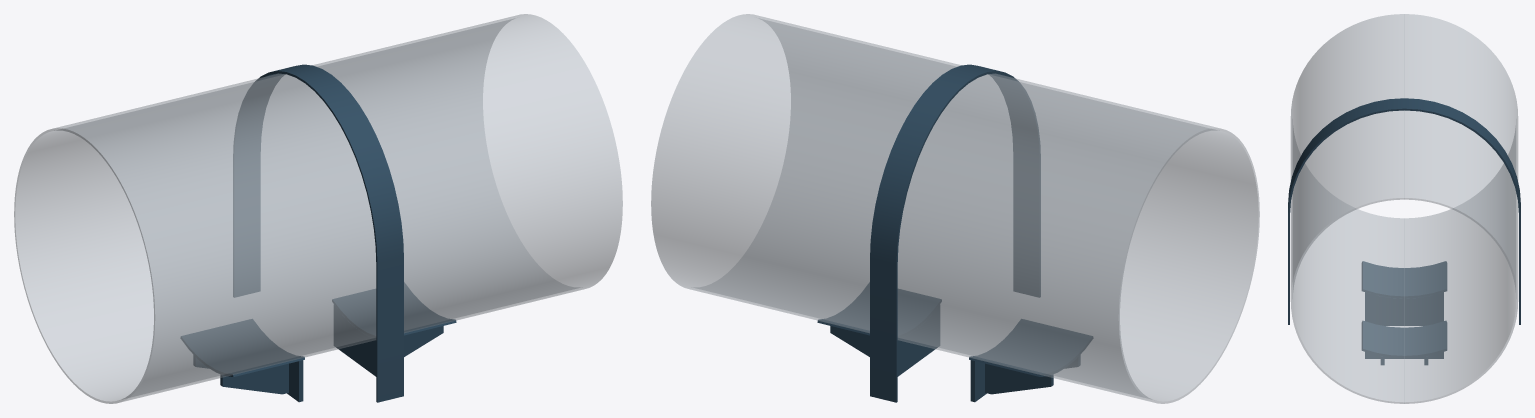
The model's file is TS-669.00.00-12-opora-dn920-ris1.glb.
3 views of the same model, side by side, from view 1: azimuth 30°, elevation 25°; view 2: azimuth 150°, elevation 25°; view 3: azimuth 270°, elevation 25° (orthographic). The views are drawn at different scales.
Visible parts, largest first — view 1: truba, homut_9, upor_8, upor_4, upor_1, upor_6, upor_2, upor_5; view 2: truba, homut_9, upor_8, upor_4, upor_1, upor_7, upor_3, upor_5; view 3: truba, homut_9, upor_8, upor_4, upor_5, upor_1.
Boxes of the visible parts, x1,y1,x2,y2 form: truba: (14, 14, 622, 403); homut_9: (233, 64, 403, 402); upor_8: (181, 319, 304, 376); upor_4: (332, 282, 456, 338); upor_1: (334, 305, 376, 376); upor_6: (220, 363, 288, 394); upor_2: (404, 326, 443, 356); upor_5: (287, 360, 303, 402); truba: (651, 14, 1259, 403); homut_9: (870, 64, 1040, 402); upor_8: (969, 319, 1092, 376); upor_4: (817, 282, 941, 338); upor_1: (897, 305, 939, 376); upor_7: (985, 363, 1053, 394); upor_3: (830, 326, 869, 356); upor_5: (970, 360, 986, 402); truba: (1290, 14, 1518, 403); homut_9: (1288, 98, 1520, 324); upor_8: (1361, 261, 1447, 298); upor_4: (1361, 321, 1447, 357); upor_5: (1365, 292, 1443, 325); upor_1: (1365, 352, 1443, 358).
Size of the model in its own units: 1760 by 1063 by 942.
